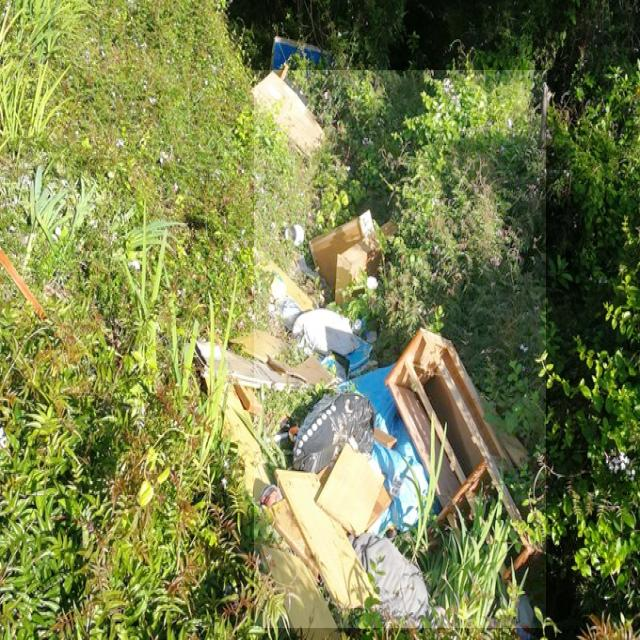dumping: (254, 71, 546, 628)
